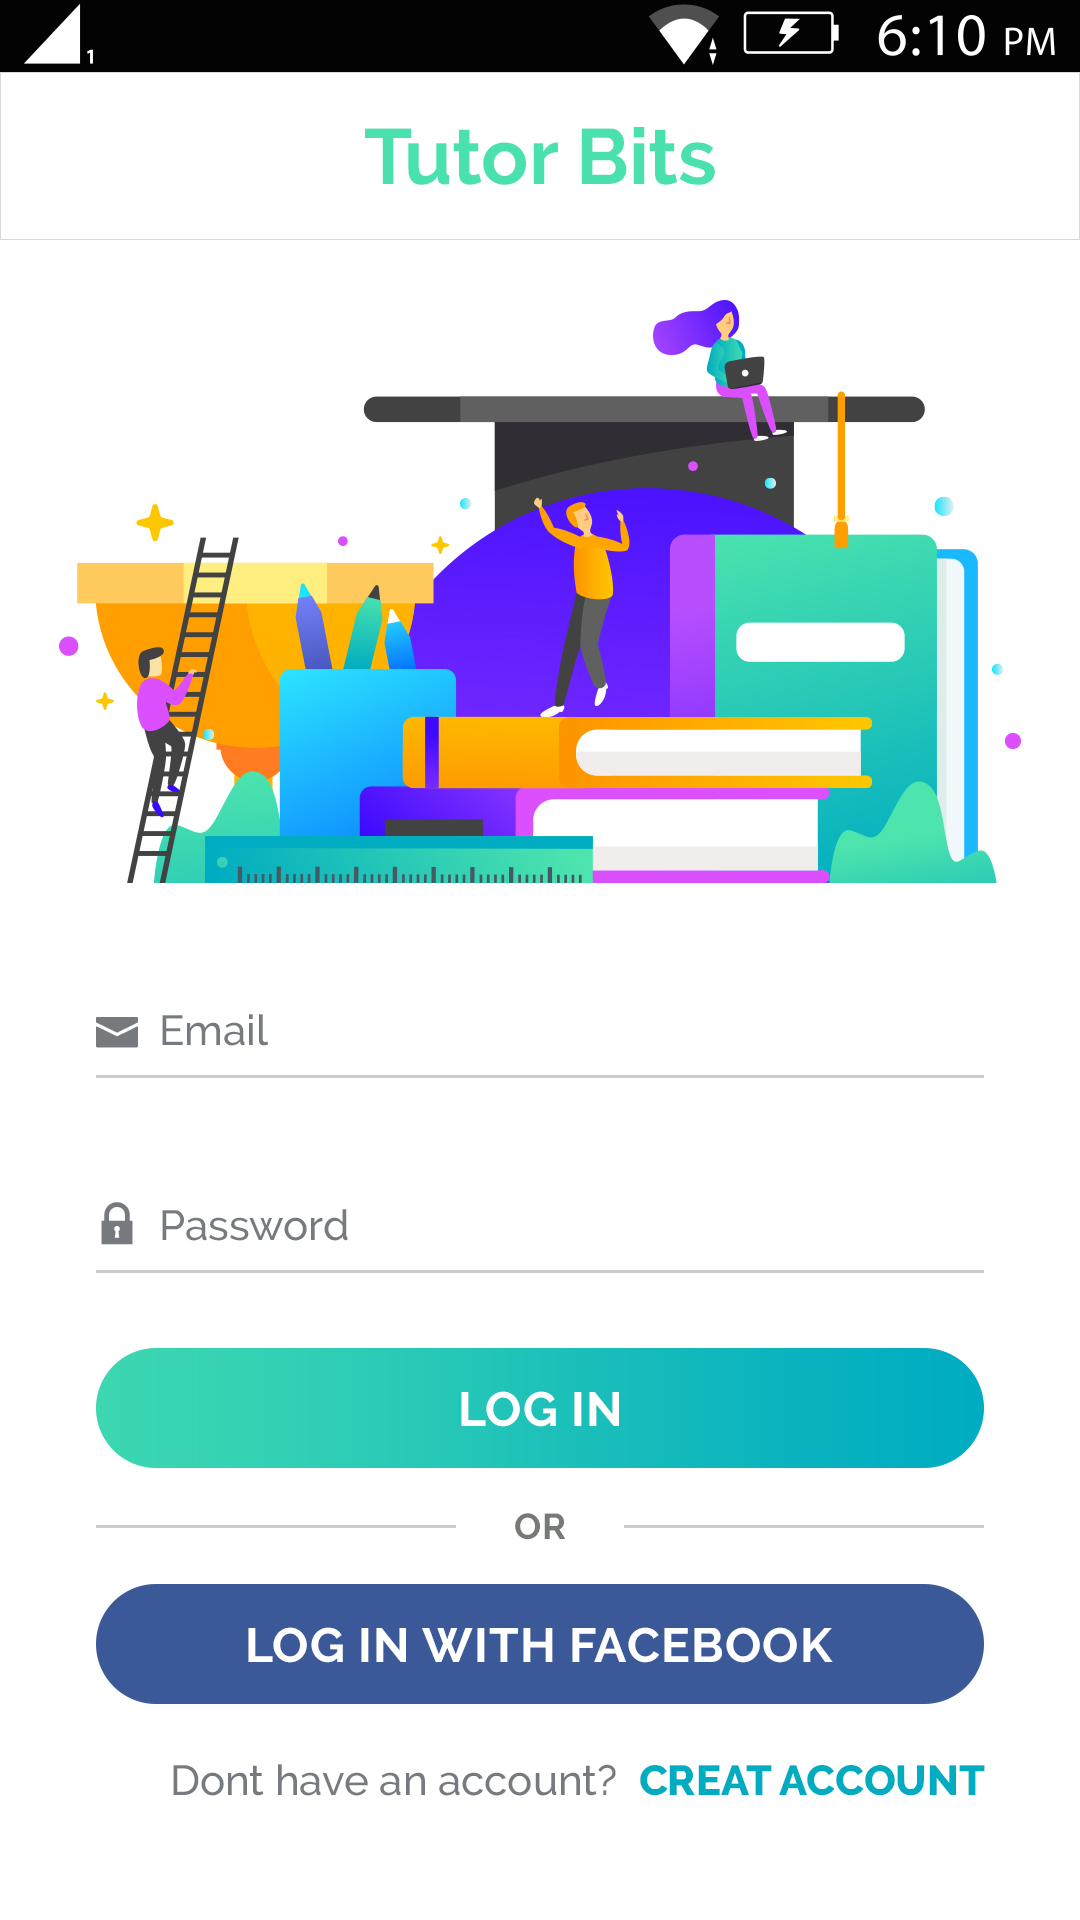EditText: (96, 1201, 985, 1274), (96, 1013, 985, 1079)
Icon: (102, 1203, 135, 1246), (96, 1017, 140, 1048)
Image: (59, 301, 1022, 884)
Text: (365, 127, 716, 187), (173, 1763, 617, 1797), (640, 1764, 986, 1796), (162, 1209, 349, 1242), (164, 1013, 270, 1046), (516, 1513, 567, 1542)
TextButton: (96, 1582, 985, 1705), (96, 1348, 985, 1469)
UpperTaskBar: (3, 1, 1080, 73)
